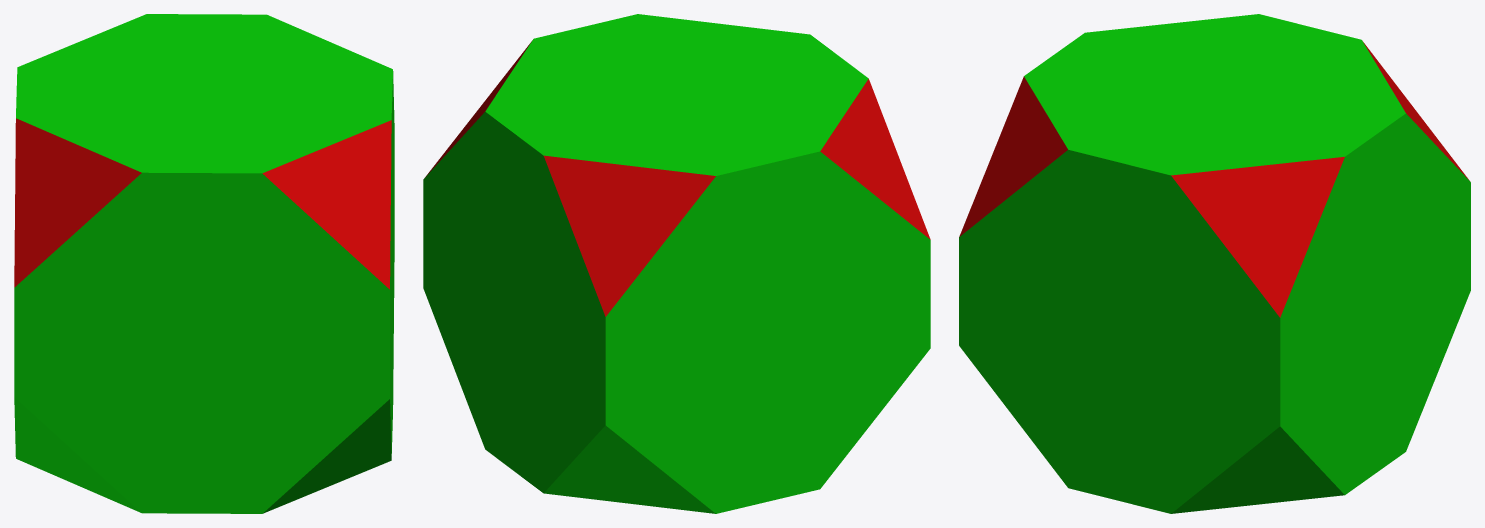
Rendered from anim_cube_000051.obj.
The picture shows the model from 3 angles, left to right: view 1: azimuth 30°, elevation 25°; view 2: azimuth 150°, elevation 25°; view 3: azimuth 270°, elevation 25°; orthographic projection.
Visible parts, largest first — view 1: Cube_Cube.002_Material.002, Cube_Cube.002_Material.001; view 2: Cube_Cube.002_Material.002, Cube_Cube.002_Material.001; view 3: Cube_Cube.002_Material.002, Cube_Cube.002_Material.001.
Part boxes in pixels (x1,y1,x2,y2): Cube_Cube.002_Material.002: [14, 14, 394, 513]; Cube_Cube.002_Material.001: [14, 118, 391, 289]; Cube_Cube.002_Material.002: [423, 14, 930, 513]; Cube_Cube.002_Material.001: [425, 40, 930, 316]; Cube_Cube.002_Material.002: [959, 14, 1470, 513]; Cube_Cube.002_Material.001: [959, 42, 1469, 317].
Size of the model in its own units: 4.24 by 3.09 by 4.24.
